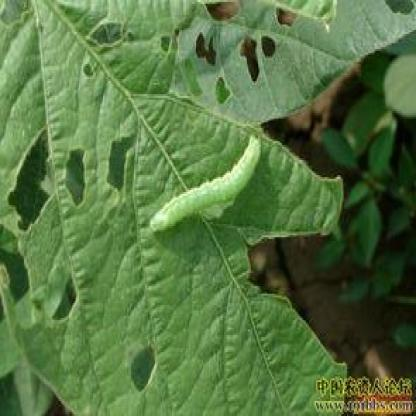armyworm: (148, 135, 264, 234)
